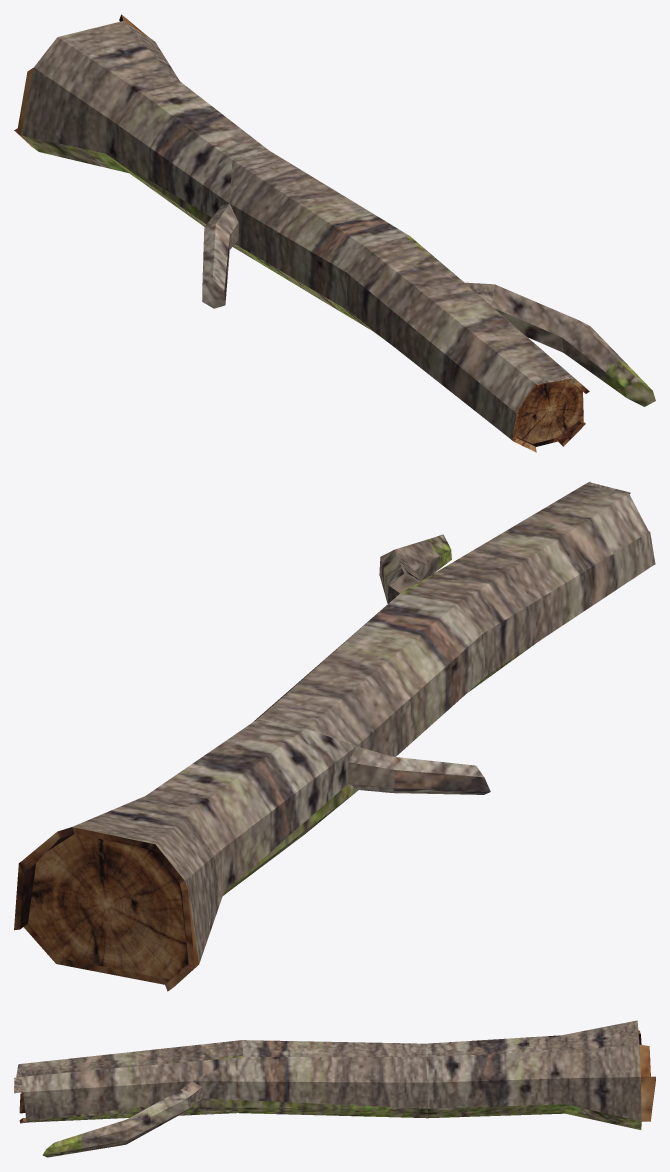
The model's file is fallenTree.fbx.
3 renders of one model, top to bottom at view 1: azimuth 30°, elevation 25°; view 2: azimuth 150°, elevation 25°; view 3: azimuth 270°, elevation 25°, orthographic. The views are drawn at different scales.
Parts seen in each view (by area): view 1: Cylinder; view 2: Cylinder; view 3: Cylinder.
Part boxes in pixels (box(x1,y1,x2,y2)): Cylinder: box(14, 14, 655, 452); Cylinder: box(14, 481, 655, 991); Cylinder: box(14, 1020, 655, 1157).
Bounding box in the file's own units: 10.72 × 34.05 × 4.82.
1 material, 1 textured.
